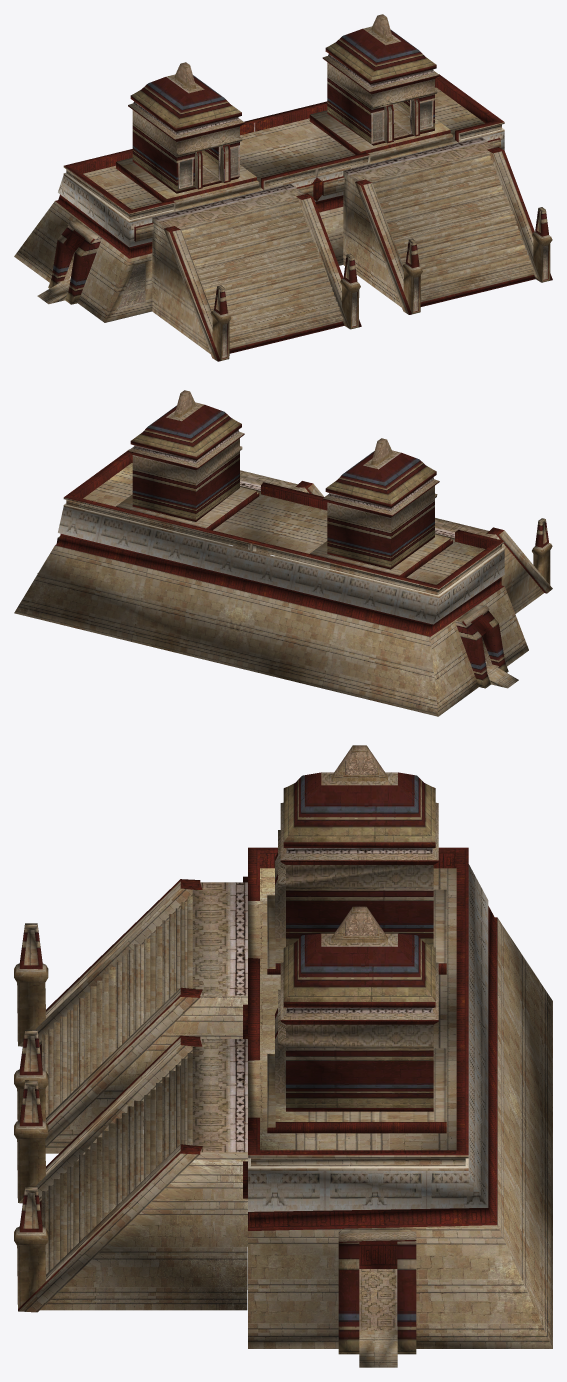
The model's file is Tok_building7.dae.
3 renders of one model, top to bottom at view 1: azimuth 30°, elevation 25°; view 2: azimuth 150°, elevation 25°; view 3: azimuth 270°, elevation 25°, orthographic. The views are drawn at different scales.
Visible parts, largest first — view 1: meshU3D; view 2: meshU3D; view 3: meshU3D.
Boxes of the visible parts, x1,y1,x2,y2 form: meshU3D: [14, 14, 552, 361]; meshU3D: [14, 390, 552, 716]; meshU3D: [14, 745, 552, 1367].
Bounding box in the file's own units: 1091 × 458 × 644.
3 materials, 3 textured.
